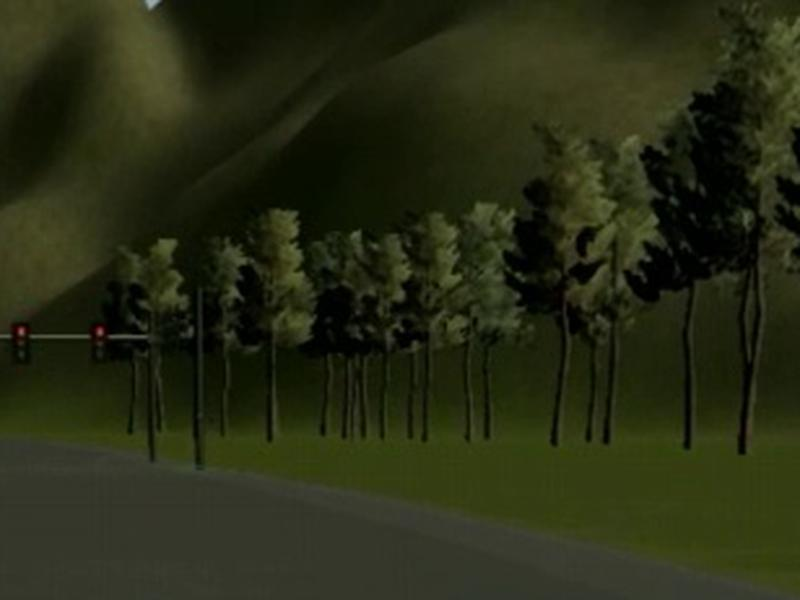Red: (10, 319, 31, 365), (91, 321, 110, 366)
